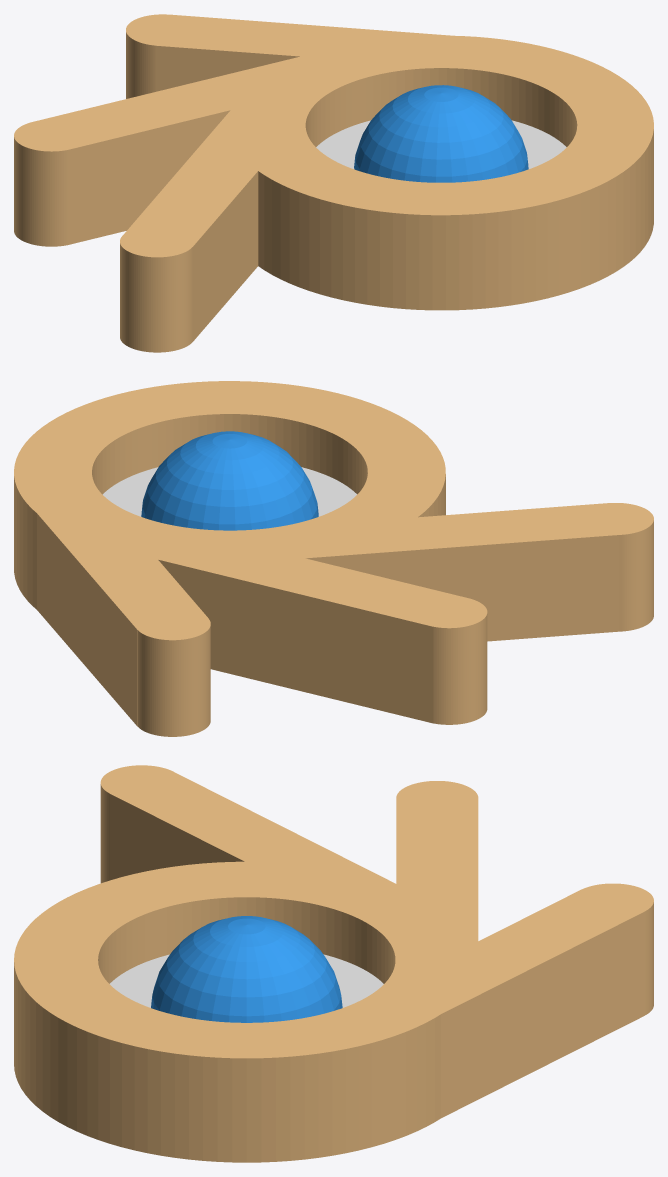
The model's file is blender.glb.
The picture shows the model from 3 angles, top to bottom: view 1: azimuth 30°, elevation 25°; view 2: azimuth 150°, elevation 25°; view 3: azimuth 270°, elevation 25°; orthographic projection. The views are drawn at different scales.
Parts seen in each view (by area): view 1: Cylinder.016, Cube.002, Cube.001, Sphere.001, Cube, Cylinder.019, Cylinder.017, Cylinder.018; view 2: Cylinder.016, Cube.002, Cube.001, Cube, Sphere.001, Cylinder.018, Cylinder.017, Cylinder.019; view 3: Cylinder.016, Cube, Sphere.001, Cube.001, Cube.002, Cylinder.019, Cylinder.018, Cylinder.017.
Boxes of the visible parts, bbox=[...] form: Cylinder.016: bbox=[229, 35, 653, 310]; Cube.002: bbox=[37, 54, 310, 245]; Cube.001: bbox=[122, 108, 285, 341]; Sphere.001: bbox=[354, 85, 528, 182]; Cube: bbox=[156, 14, 449, 91]; Cylinder.019: bbox=[120, 225, 194, 352]; Cylinder.017: bbox=[14, 119, 88, 246]; Cylinder.018: bbox=[126, 14, 199, 98]; Cylinder.016: bbox=[14, 381, 445, 609]; Cube.002: bbox=[156, 526, 469, 723]; Cube.001: bbox=[272, 503, 622, 641]; Cube: bbox=[37, 513, 208, 726]; Sphere.001: bbox=[141, 431, 318, 530]; Cylinder.018: bbox=[135, 608, 210, 736]; Cylinder.017: bbox=[411, 596, 487, 724]; Cylinder.019: bbox=[577, 503, 653, 631]; Cylinder.016: bbox=[14, 861, 479, 1162]; Cube: bbox=[419, 889, 644, 1118]; Sphere.001: bbox=[151, 916, 342, 1022]; Cube.001: bbox=[110, 772, 399, 898]; Cube.002: bbox=[396, 796, 478, 942]; Cylinder.019: bbox=[100, 765, 182, 883]; Cylinder.018: bbox=[574, 883, 653, 1015]; Cylinder.017: bbox=[396, 781, 478, 815].
Bounding box in the file's own units: 2.53 × 0.7036 × 2.34.
